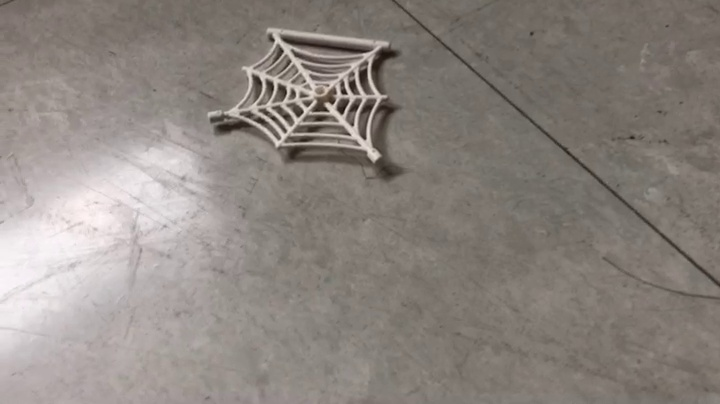web: (206, 27, 403, 183)
